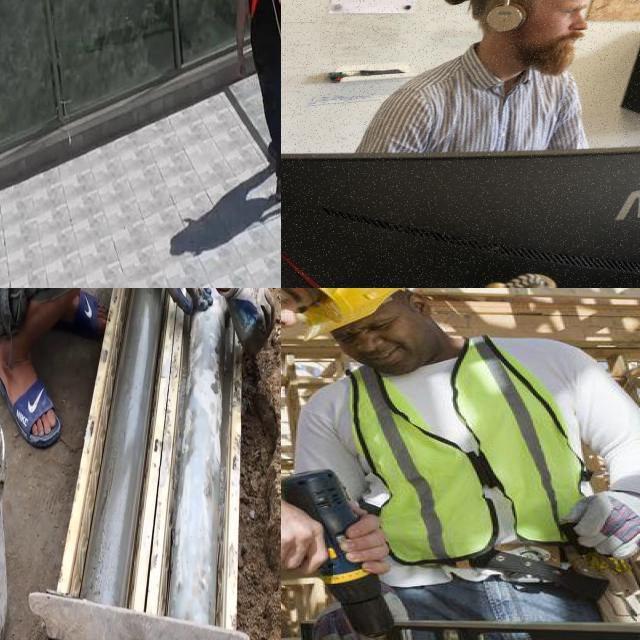Ear-protection: (460, 0, 611, 87)
No_Ear-Protection: (407, 293, 431, 317)
No_Glasses: (332, 292, 420, 343), (281, 288, 315, 313)
Sandals: (0, 331, 59, 448)
face_nomask: (339, 316, 465, 375)
hand_glove: (568, 491, 640, 559), (217, 288, 278, 332)
hand_noglove: (281, 500, 326, 572)
head_helmet: (306, 288, 406, 332)
